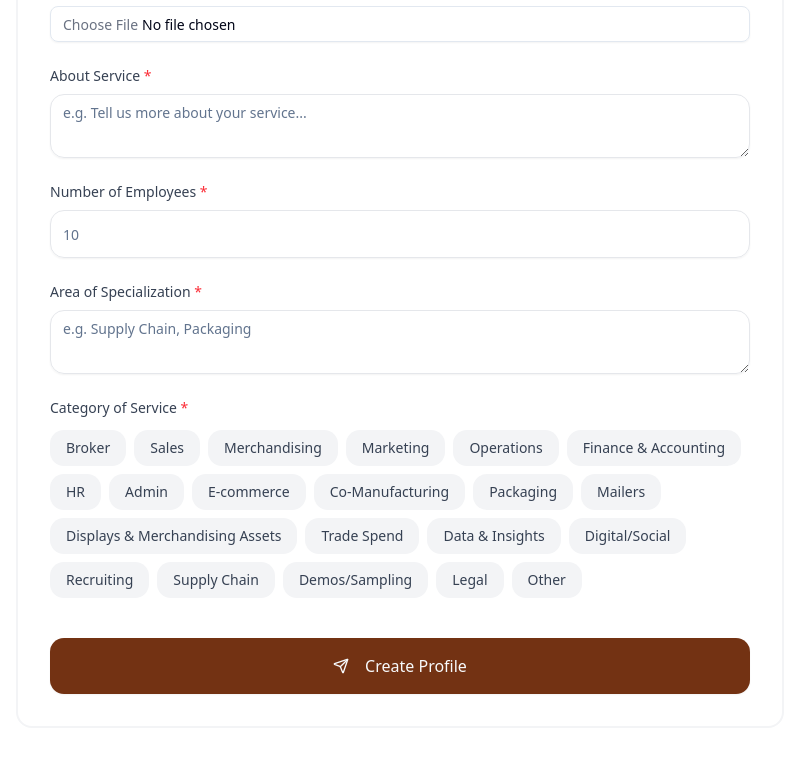
Test case: ServiceOnboarding Component › Form Validation › should show validation errors on empty submit
(page scrolled)
Click the button "Create Profile".
click(400, 666)  # box [50,638,750,694]
(page scrolled)
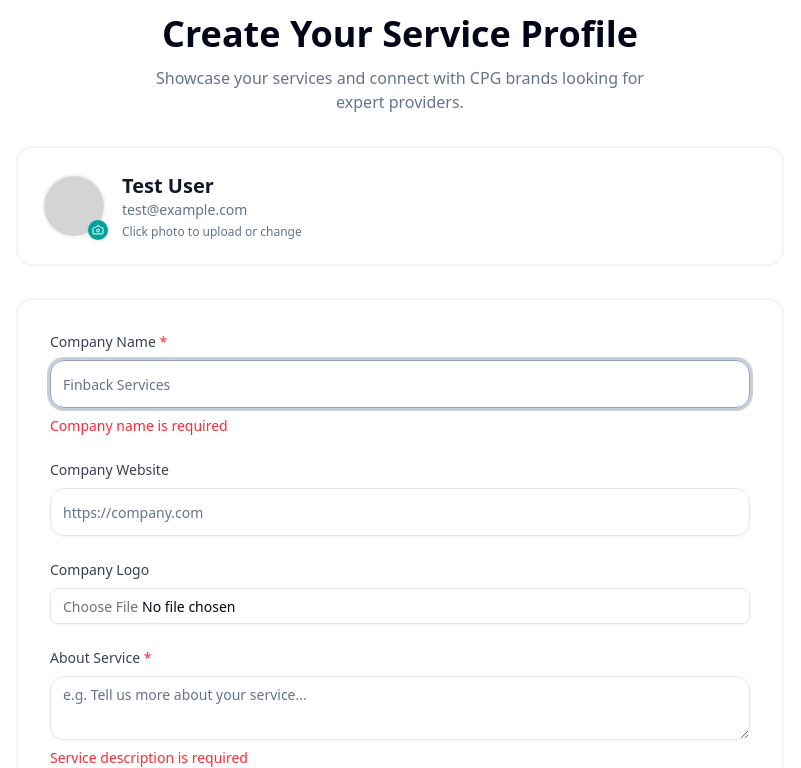
Expected: the text "Company name is required" is shown, [50,416,228,435]
